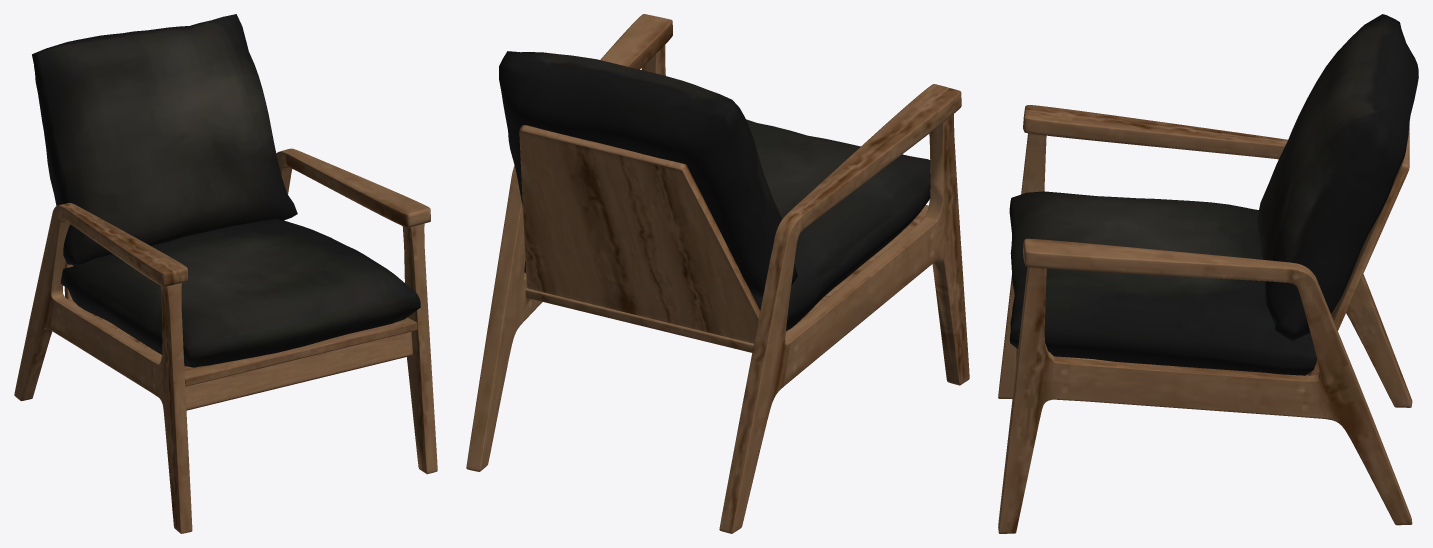
Rendered from modern_arm_chair_01.glb.
3 views of the same model, side by side, from view 1: azimuth 30°, elevation 25°; view 2: azimuth 150°, elevation 25°; view 3: azimuth 270°, elevation 25° (orthographic). The views are drawn at different scales.
Parts seen in each view (by area): view 1: modern_arm_chair_01; view 2: modern_arm_chair_01; view 3: modern_arm_chair_01.
Part boxes in pixels (x1,y1,x2,y2): modern_arm_chair_01: [14, 14, 437, 533]; modern_arm_chair_01: [466, 14, 969, 533]; modern_arm_chair_01: [998, 14, 1418, 533].
Size of the model in its own units: 0.8203 by 1.02 by 0.9866.
Materials: 2 (2 with a texture image).
